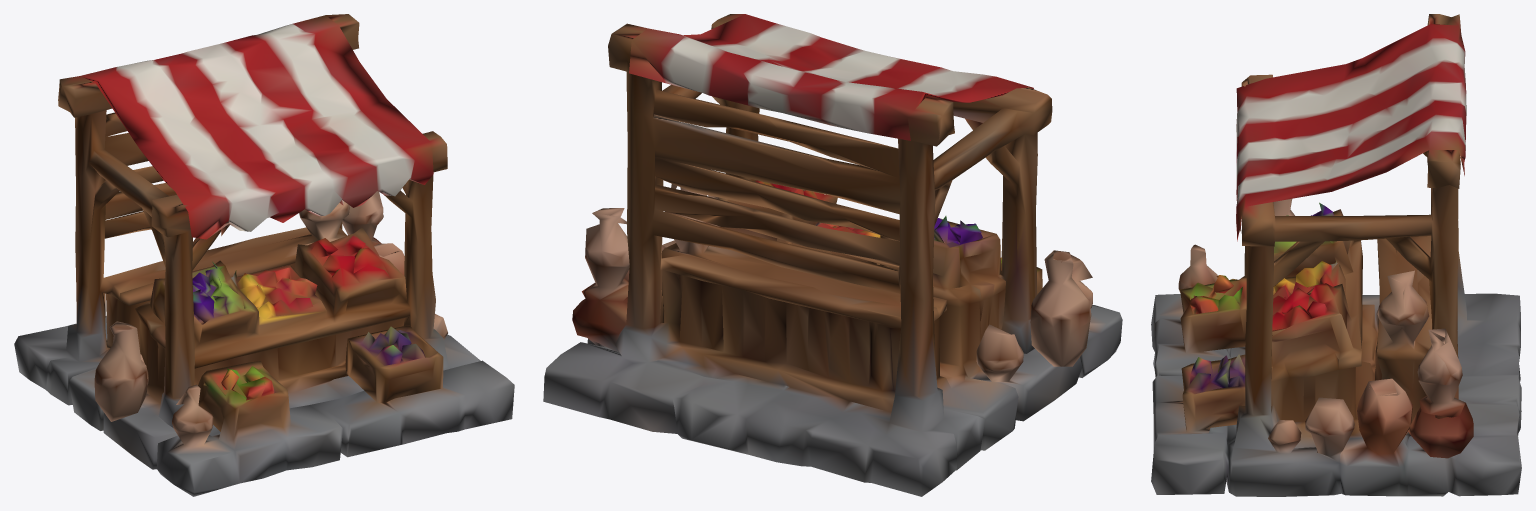
File: stall_lo.glb
3 renders of one model, left to right at view 1: azimuth 30°, elevation 25°; view 2: azimuth 150°, elevation 25°; view 3: azimuth 270°, elevation 25°, orthographic. The views are drawn at different scales.
Size of the model in its own units: 1.9 by 1.55 by 1.59.
